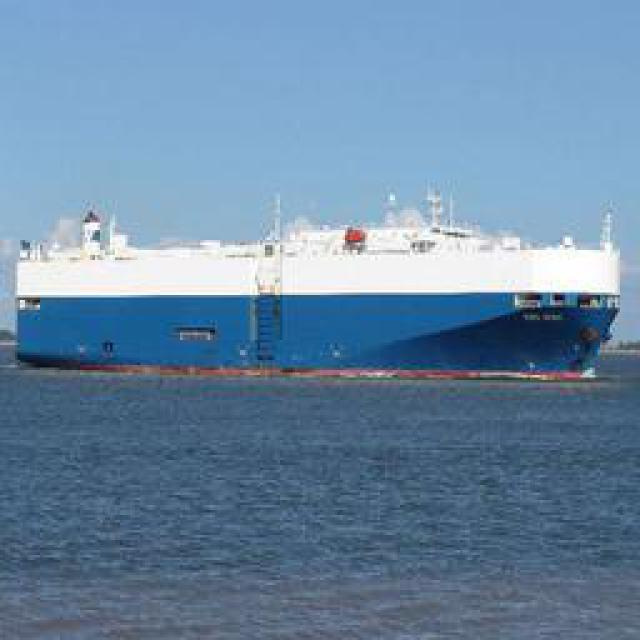Ship: (14, 205, 629, 385)
